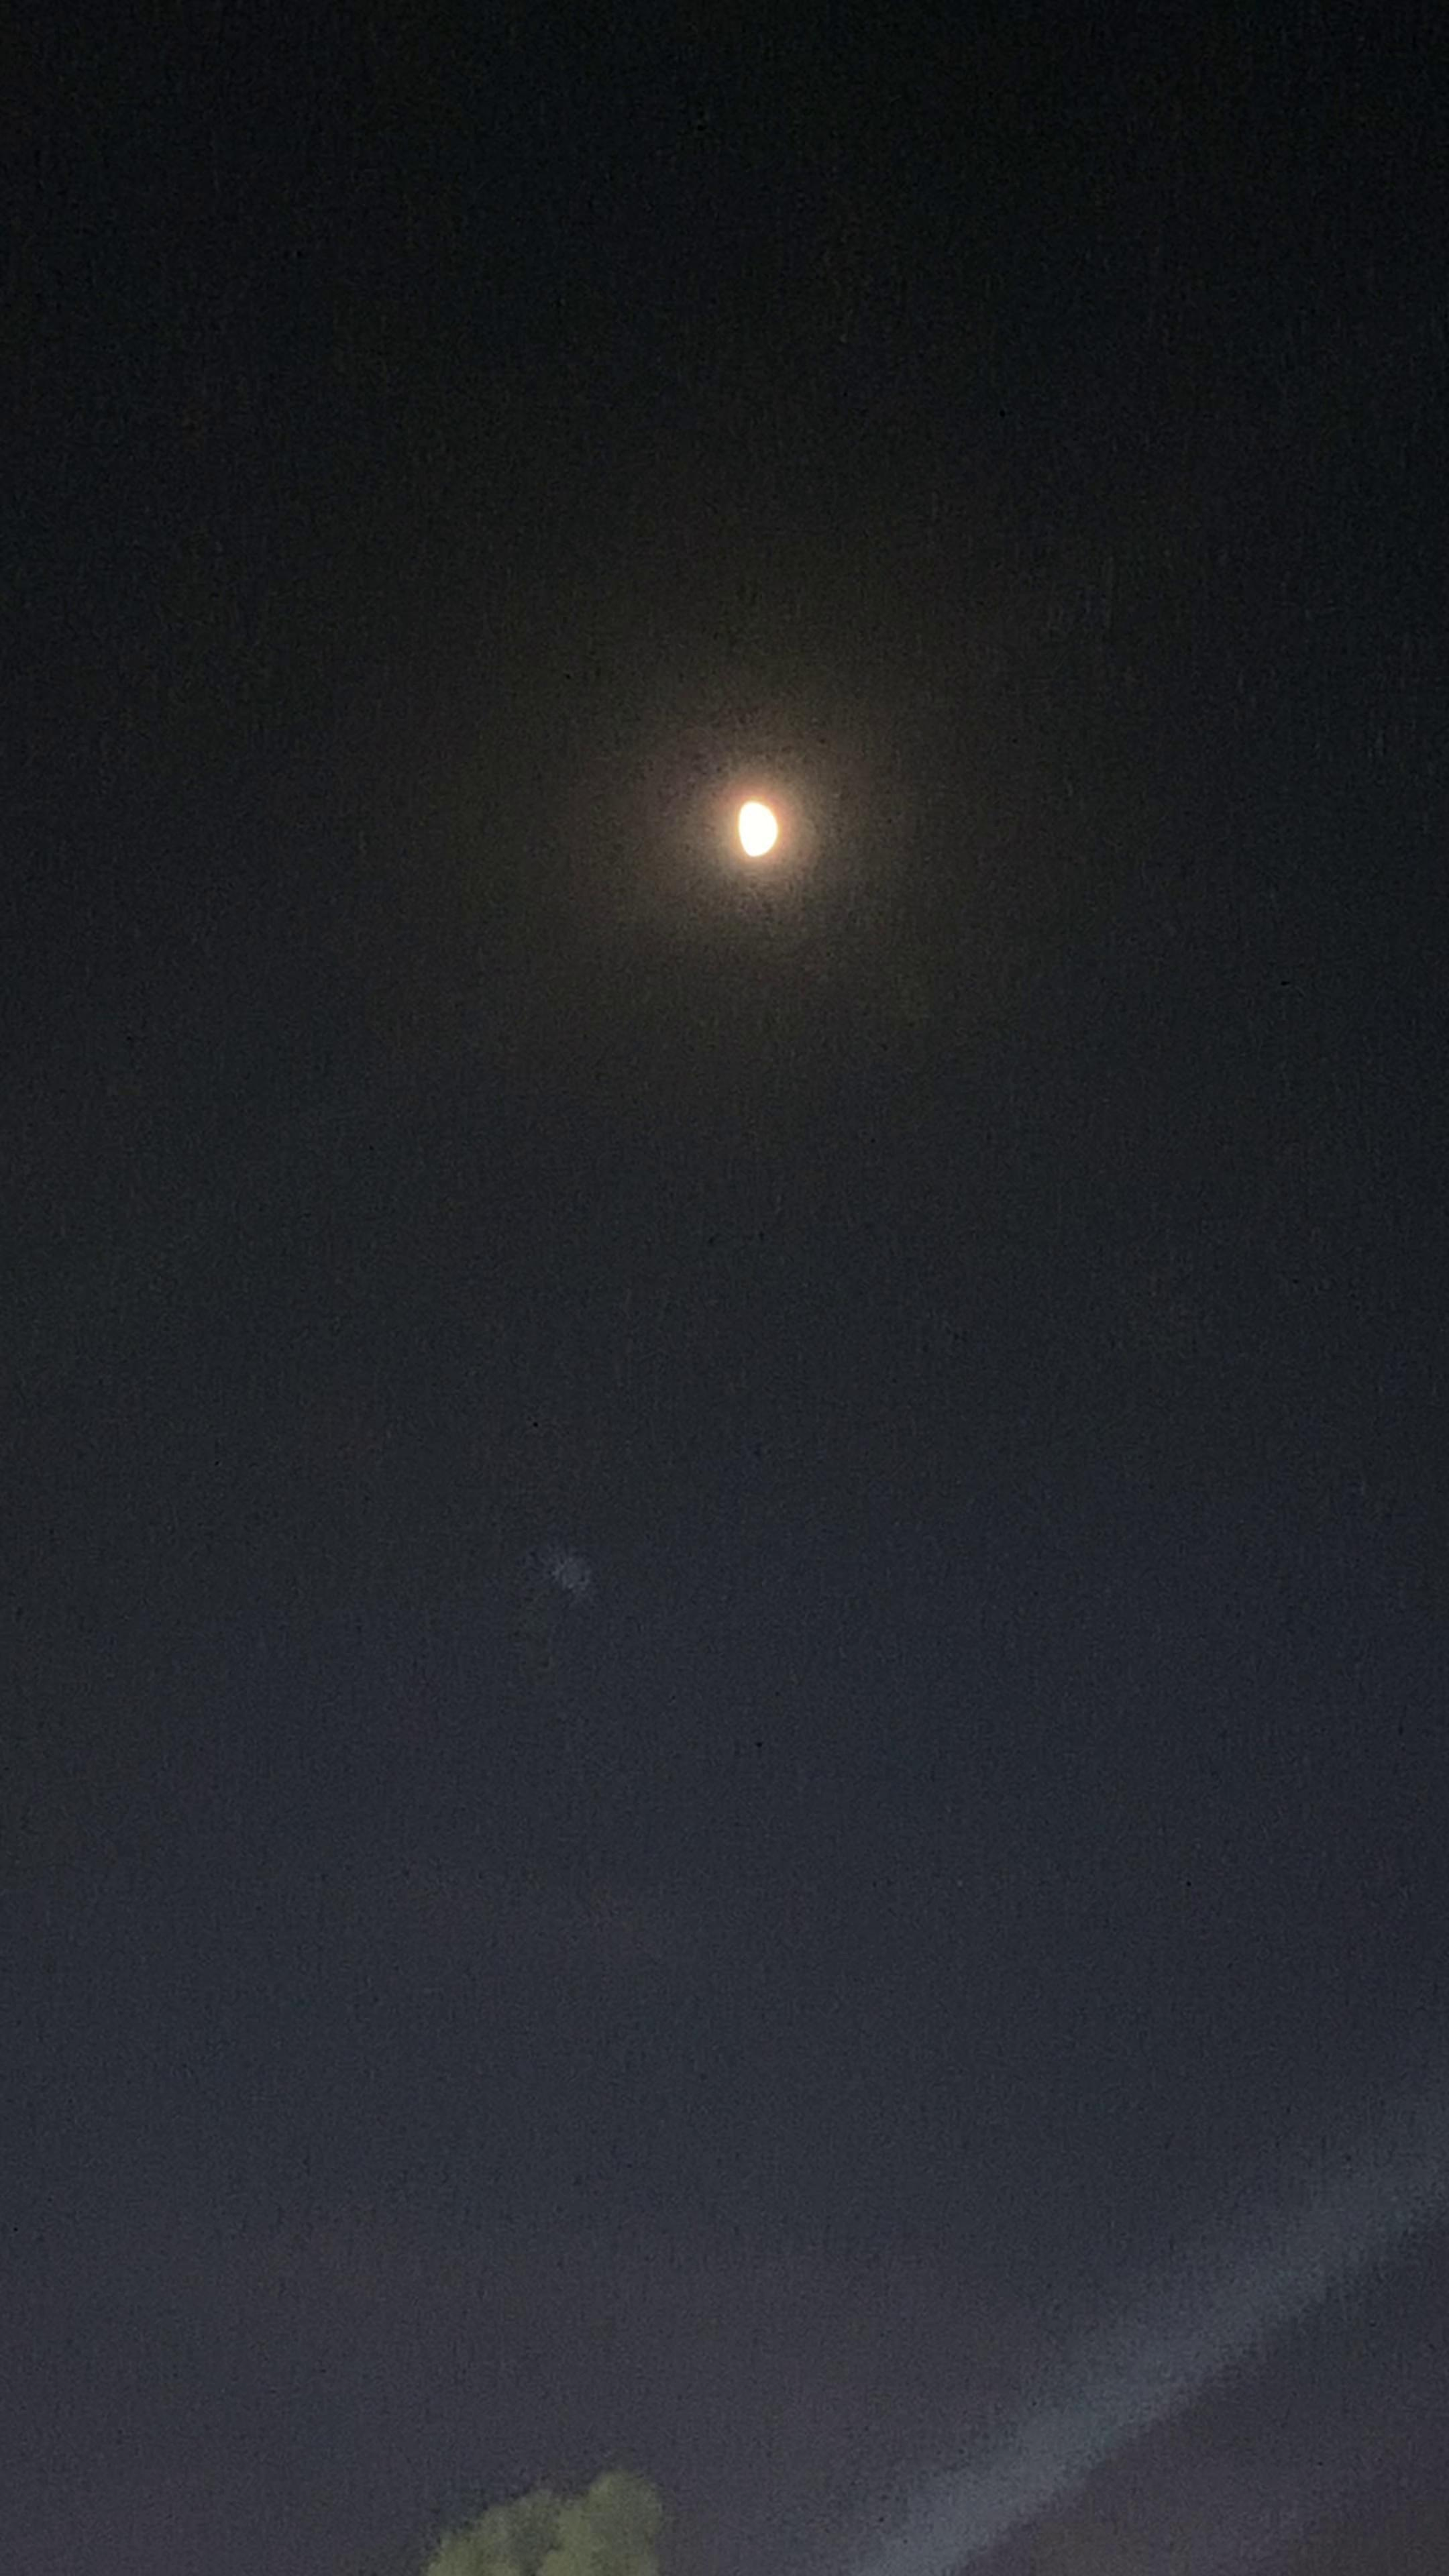moon: (709, 773, 826, 902)
